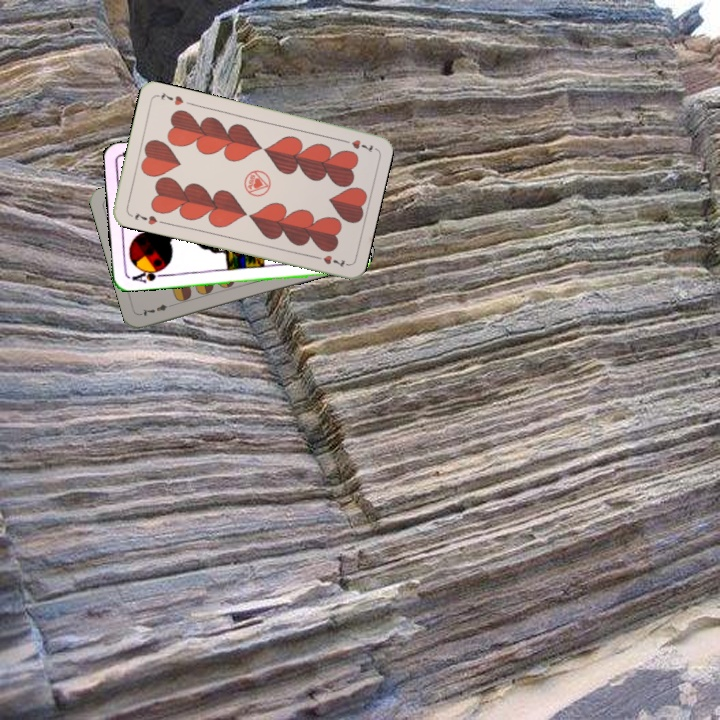E7: (137, 300, 177, 319)
H7: (337, 135, 377, 155), (131, 208, 160, 228)
SA: (126, 264, 166, 285)
